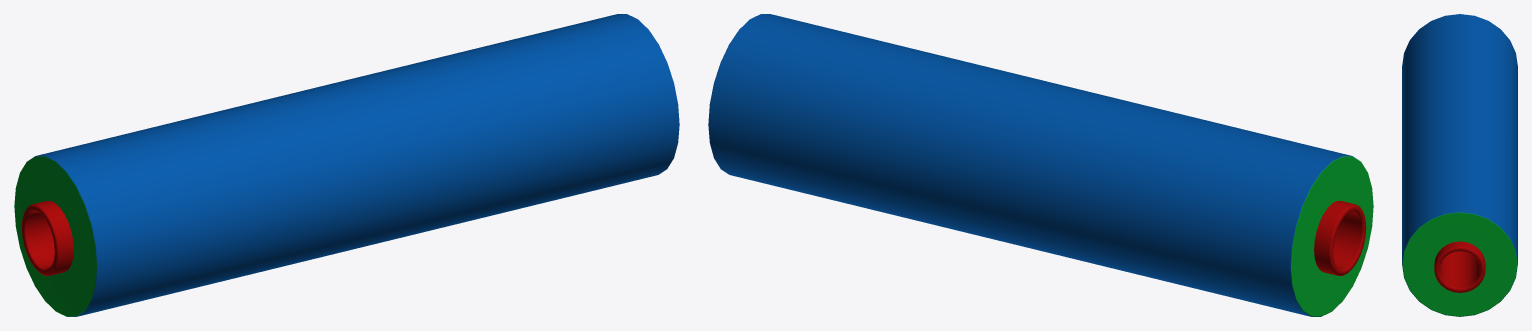
The model's file is SM_roll_3.fbx.
The picture shows the model from 3 angles, left to right: view 1: azimuth 30°, elevation 25°; view 2: azimuth 150°, elevation 25°; view 3: azimuth 270°, elevation 25°; orthographic projection. The views are drawn at different scales.
Parts seen in each view (by area): view 1: SM_roll_3; view 2: SM_roll_3; view 3: SM_roll_3.
Part boxes in pixels (<box>): SM_roll_3: <box>14,14,679,316</box>; SM_roll_3: <box>708,14,1373,316</box>; SM_roll_3: <box>1402,14,1517,316</box>.
Bounding box in the file's own units: 0.9136 × 0.2134 × 0.2134.
